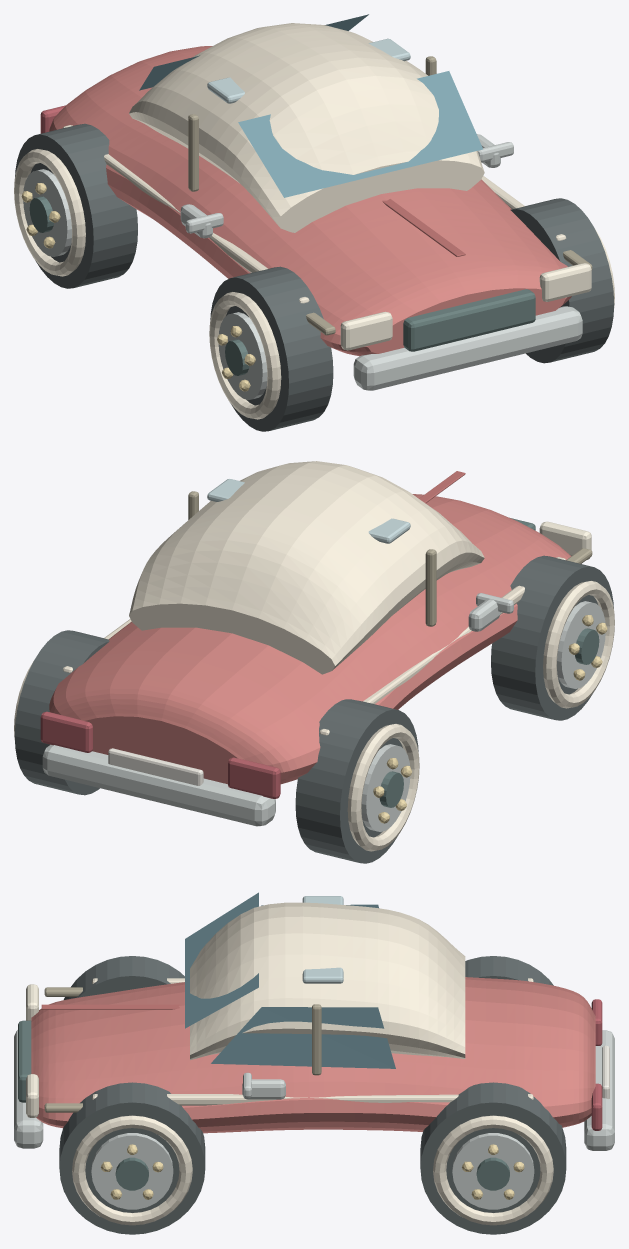
File: maple_cherry_coupe.glb
3 views of the same model, one above another, from view 1: azimuth 30°, elevation 25°; view 2: azimuth 150°, elevation 25°; view 3: azimuth 270°, elevation 25° (orthographic). The views are drawn at different scales.
Visible parts, largest first — view 1: Maple Cherry Coupe GT_cream_car, Maple Cherry Coupe GT_red, Maple Cherry Coupe GT_tires, Maple Cherry Coupe GT_metal, Maple Cherry Coupe GT_glass, Maple Cherry Coupe GT_dark_cavity, Maple Cherry Coupe GT_headlamp, Maple Cherry Coupe GT_dark_brass, Maple Cherry Coupe GT_glass_bright, Maple Cherry Coupe GT_brass, Maple Cherry Coupe GT_red_shade; view 2: Maple Cherry Coupe GT_cream_car, Maple Cherry Coupe GT_red, Maple Cherry Coupe GT_tires, Maple Cherry Coupe GT_metal, Maple Cherry Coupe GT_taillamp, Maple Cherry Coupe GT_antique_white, Maple Cherry Coupe GT_dark_cavity, Maple Cherry Coupe GT_dark_brass, Maple Cherry Coupe GT_glass_bright, Maple Cherry Coupe GT_brass, Maple Cherry Coupe GT_headlamp; view 3: Maple Cherry Coupe GT_red, Maple Cherry Coupe GT_cream_car, Maple Cherry Coupe GT_tires, Maple Cherry Coupe GT_metal, Maple Cherry Coupe GT_glass, Maple Cherry Coupe GT_dark_cavity, Maple Cherry Coupe GT_dark_brass, Maple Cherry Coupe GT_brass, Maple Cherry Coupe GT_headlamp, Maple Cherry Coupe GT_glass_bright, Maple Cherry Coupe GT_taillamp, Maple Cherry Coupe GT_red_shade.
Boxes of the visible parts, left/top/right/bottom form: Maple Cherry Coupe GT_cream_car: left=14, top=23, right=614, bottom=419; Maple Cherry Coupe GT_red: left=49, top=46, right=571, bottom=356; Maple Cherry Coupe GT_tires: left=15, top=123, right=614, bottom=431; Maple Cherry Coupe GT_metal: left=23, top=134, right=582, bottom=399; Maple Cherry Coupe GT_glass: left=139, top=14, right=482, bottom=197; Maple Cherry Coupe GT_dark_cavity: left=29, top=196, right=535, bottom=375; Maple Cherry Coupe GT_headlamp: left=340, top=263, right=591, bottom=350; Maple Cherry Coupe GT_dark_brass: left=188, top=56, right=592, bottom=335; Maple Cherry Coupe GT_glass_bright: left=207, top=38, right=410, bottom=103; Maple Cherry Coupe GT_brass: left=21, top=183, right=255, bottom=391; Maple Cherry Coupe GT_red_shade: left=382, top=199, right=465, bottom=256; Maple Cherry Coupe GT_cream_car: left=14, top=461, right=614, bottom=851; Maple Cherry Coupe GT_red: left=49, top=494, right=571, bottom=784; Maple Cherry Coupe GT_tires: left=14, top=555, right=613, bottom=863; Maple Cherry Coupe GT_metal: left=42, top=593, right=605, bottom=831; Maple Cherry Coupe GT_taillamp: left=40, top=711, right=280, bottom=798; Maple Cherry Coupe GT_antique_white: left=108, top=748, right=203, bottom=785; Maple Cherry Coupe GT_dark_cavity: left=379, top=517, right=599, bottom=807; Maple Cherry Coupe GT_dark_brass: left=188, top=491, right=592, bottom=626; Maple Cherry Coupe GT_glass_bright: left=207, top=479, right=410, bottom=543; Maple Cherry Coupe GT_brass: left=373, top=615, right=607, bottom=823; Maple Cherry Coupe GT_headlamp: left=539, top=521, right=591, bottom=559; Maple Cherry Coupe GT_red: left=31, top=977, right=595, bottom=1133; Maple Cherry Coupe GT_cream_car: left=72, top=902, right=553, bottom=1225; Maple Cherry Coupe GT_tires: left=59, top=956, right=566, bottom=1234; Maple Cherry Coupe GT_metal: left=14, top=1030, right=614, bottom=1209; Maple Cherry Coupe GT_glass: left=185, top=892, right=395, bottom=1068; Maple Cherry Coupe GT_dark_cavity: left=18, top=1020, right=509, bottom=1190; Maple Cherry Coupe GT_dark_brass: left=44, top=987, right=321, bottom=1112; Maple Cherry Coupe GT_brass: left=101, top=1144, right=524, bottom=1199; Maple Cherry Coupe GT_headlamp: left=26, top=984, right=38, bottom=1117; Maple Cherry Coupe GT_glass_bright: left=302, top=896, right=343, bottom=983; Maple Cherry Coupe GT_taillamp: left=591, top=999, right=602, bottom=1130; Maple Cherry Coupe GT_red_shade: left=41, top=1004, right=179, bottom=1009.
Size of the model in its own units: 3.03 by 2.11 by 4.69.
